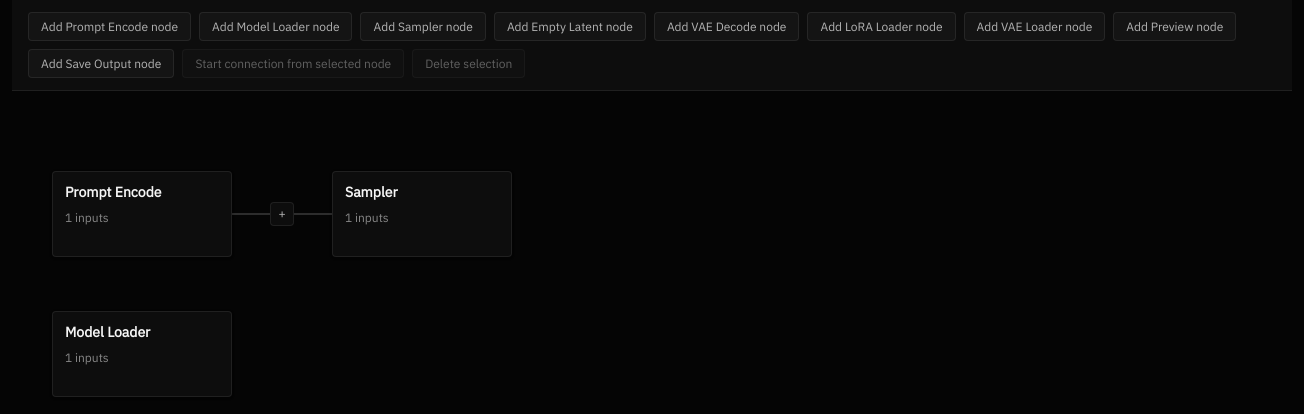
Scenario: WorkflowGraphEditor › clears selection after deleting a selected node
Click the button with aria-label "Sampler node".
click(422, 214)  # box [332, 171, 512, 257]
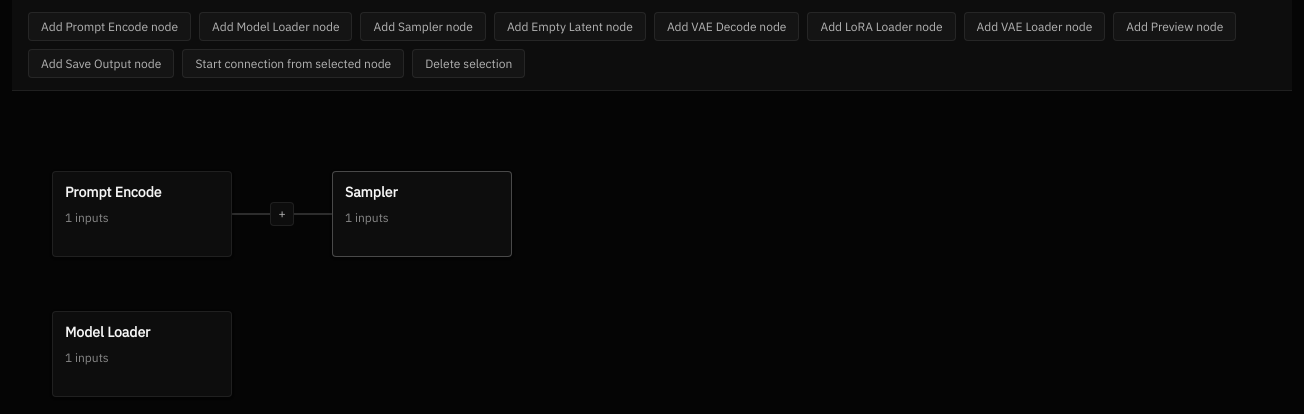
Click the button "Delete selection".
click(469, 64)  # box [412, 49, 525, 78]
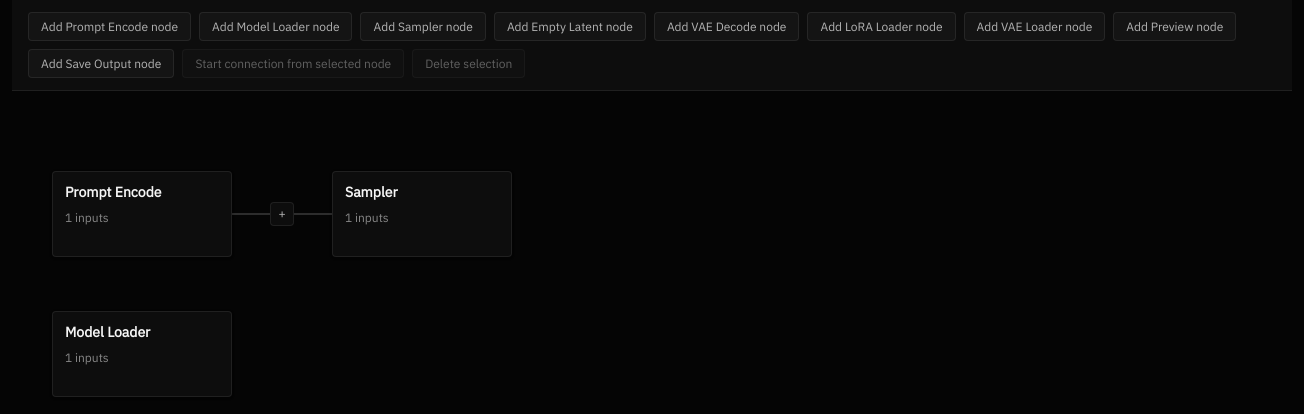
Check: the button "Delete selection" is disabled, box [412, 49, 525, 78]
